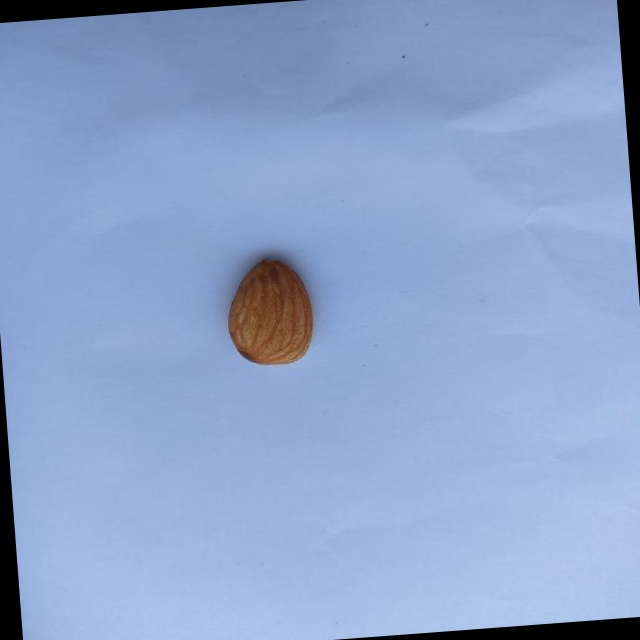grade1: (217, 247, 327, 375)
